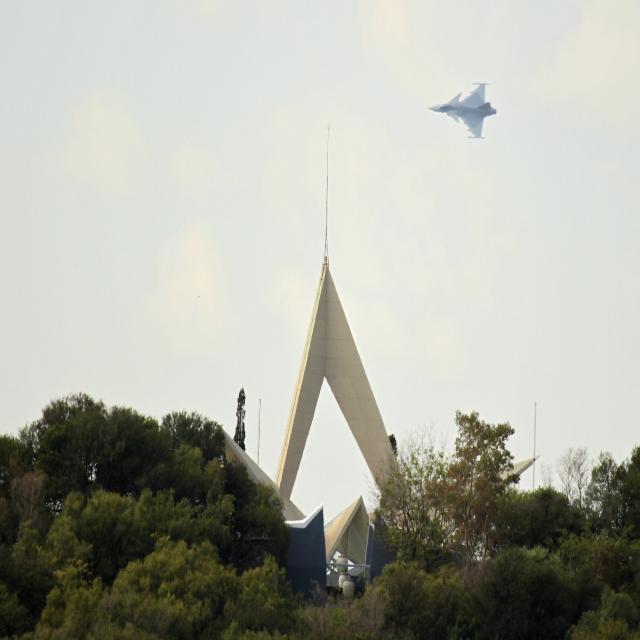MIL_Plane: (421, 83, 492, 139)
